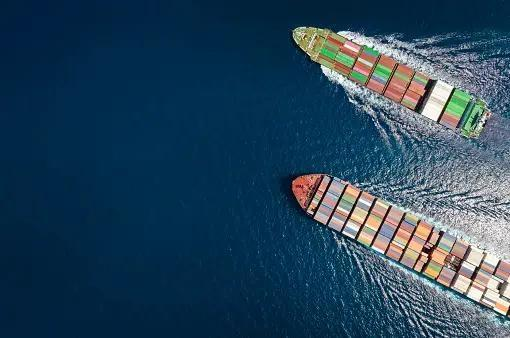Boat: (271, 158, 510, 324), (276, 15, 498, 147)
